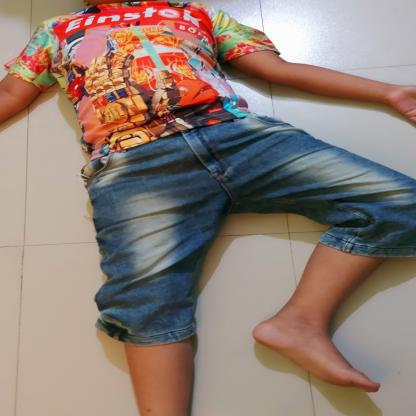hand: (249, 52, 416, 132)
leg: (250, 224, 407, 395)
